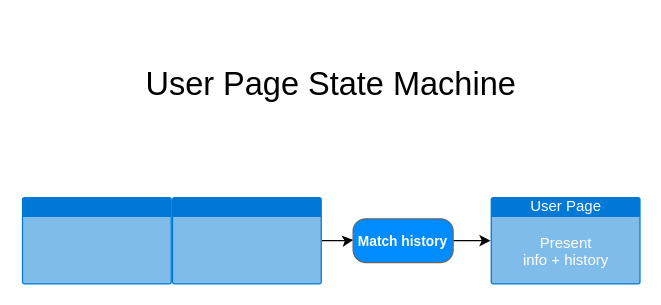
Image size: 661x305. Some labels were removed from this diagram. The centre of each missing label's shape, as x and y in pixels:
"User Page Loading" belongs at (x=96, y=240).
"User Page Present info" belongs at (x=246, y=240).
